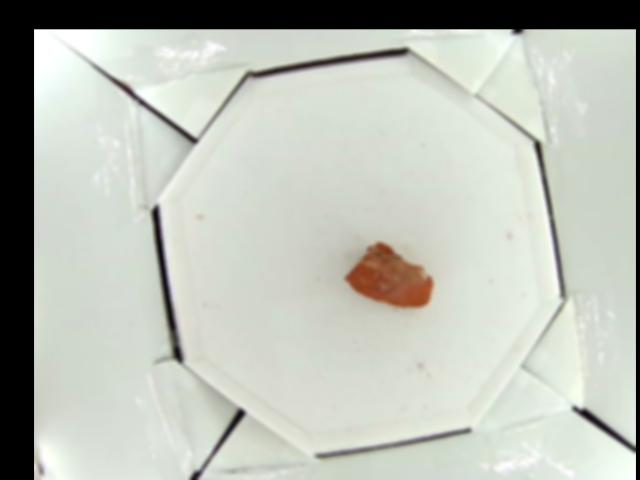Brisk: (342, 243, 432, 310)
